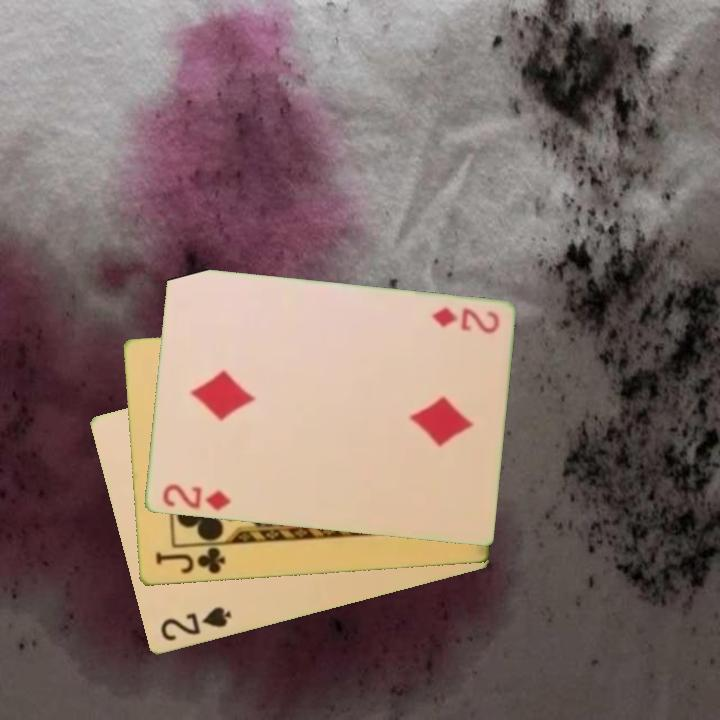2d: (158, 481, 233, 514), (428, 304, 502, 337)
2s: (156, 603, 234, 645)
Jc: (151, 544, 228, 577)
